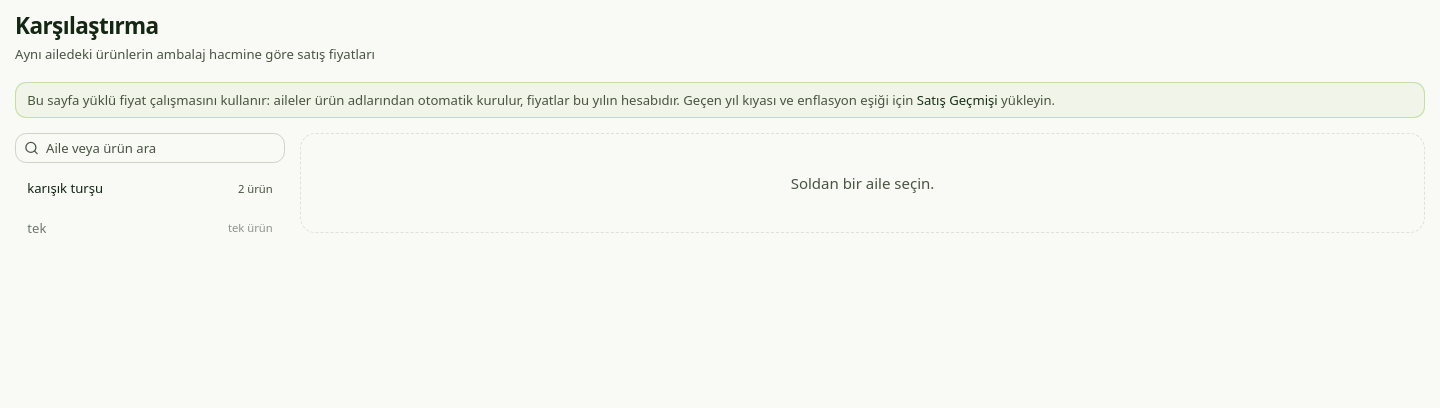
Test: Karşılaştırma sayfası › aile_ad gösterilir (liste, başlık), URL ve istek anahtarı kullanır; tek üyeli aile bilgi satırı çıkar
Click the button "karışık turşu 2 ürün" at (65, 188), box left=15, top=170, right=285, bottom=206
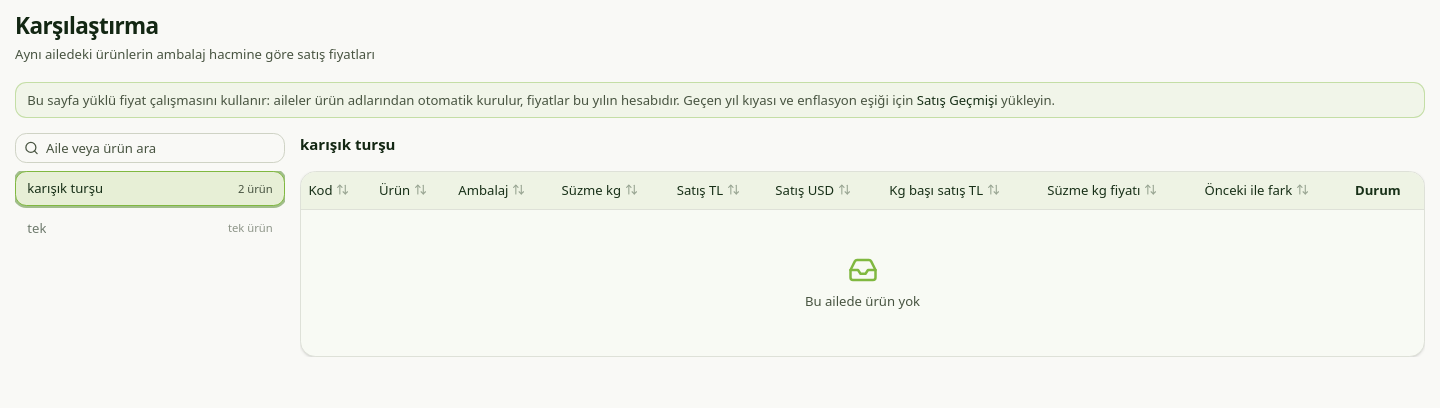
Expected: the heading "karışık turşu" is shown, left=300, top=134, right=396, bottom=154
Click the button "tek tek ürün" at (250, 228), box left=15, top=210, right=285, bottom=246
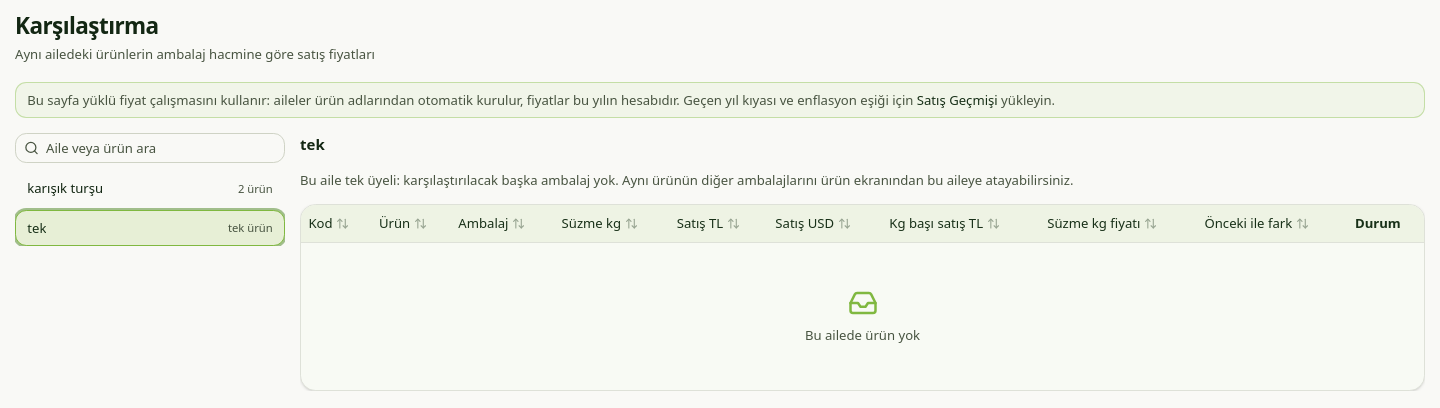
Expected: the text with test id "tek-uyeli-notu" shows "tek üyeli", left=300, top=170, right=1073, bottom=188
